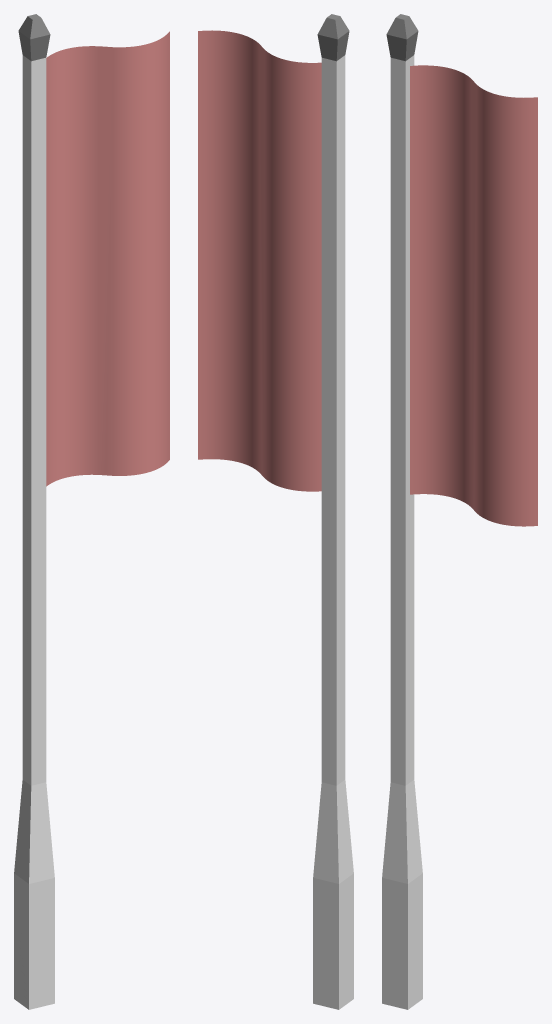
Rendered from flagRed.glb.
The picture shows the model from 3 angles, left to right: view 1: azimuth 30°, elevation 25°; view 2: azimuth 150°, elevation 25°; view 3: azimuth 330°, elevation 25°; orthographic projection.
Visible parts, largest first — view 1: flagRed, Group; view 2: flagRed, Group; view 3: flagRed, Group.
Part boxes in pixels (x1,y1,x2,y2): flagRed: (46, 31, 169, 486); Group: (14, 14, 54, 1009); flagRed: (198, 30, 321, 491); Group: (313, 14, 353, 1009); flagRed: (410, 65, 537, 526); Group: (382, 14, 422, 1009).
Size of the model in its own units: 0.1972 by 1.25 by 0.0352.
